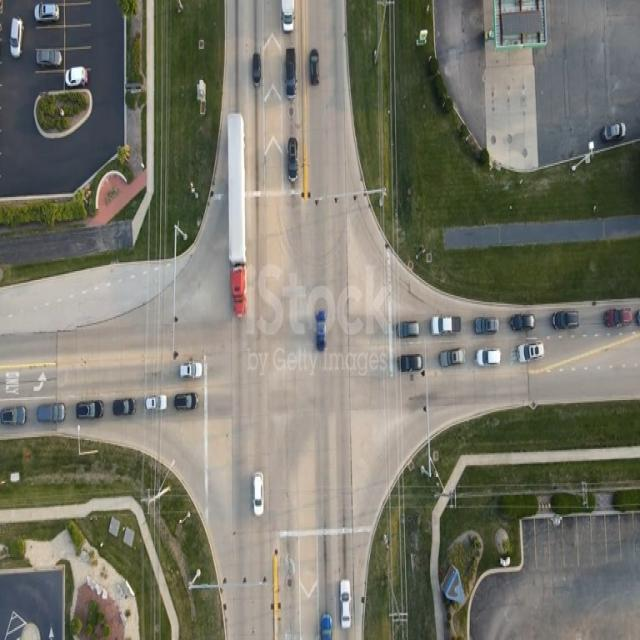car: (284, 49, 296, 100), (8, 18, 22, 59), (0, 408, 27, 429), (34, 1, 60, 22), (517, 344, 544, 364), (38, 404, 65, 424), (286, 139, 298, 184), (341, 581, 352, 629), (552, 312, 578, 332), (398, 354, 424, 374), (252, 474, 264, 517), (281, 0, 295, 33), (509, 316, 534, 334), (602, 123, 624, 143), (112, 398, 134, 417), (173, 393, 196, 411), (476, 318, 500, 335), (398, 321, 422, 338), (316, 311, 326, 351), (442, 350, 464, 368), (478, 349, 501, 366), (178, 362, 201, 379), (144, 395, 166, 411), (310, 52, 319, 89), (323, 615, 335, 640), (252, 55, 261, 88)
pickup-truck: (36, 49, 64, 70), (431, 319, 459, 339)
